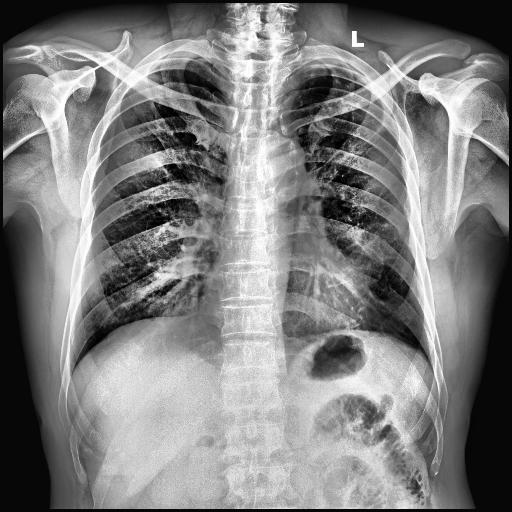0- Aortic enlargement: (252, 130, 303, 186), (258, 132, 304, 188)
13- Pulmonary fibrosis: (296, 70, 386, 139), (313, 68, 382, 132)
2- Calcification: (296, 70, 386, 139)
